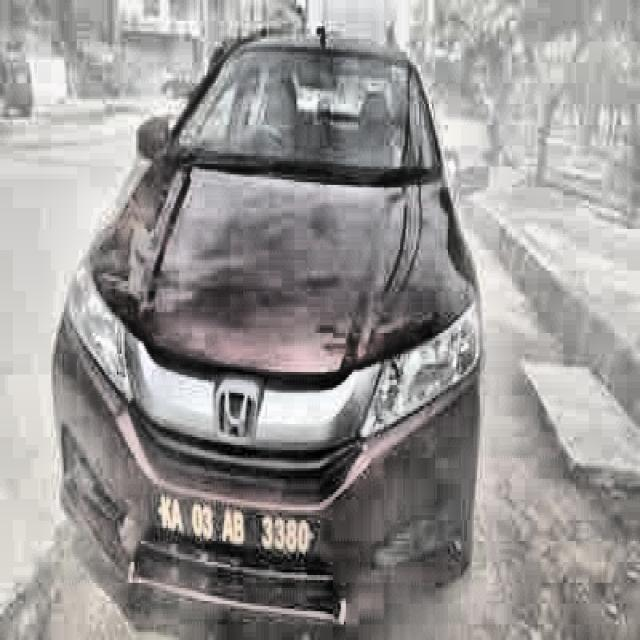license_plate: (156, 488, 310, 559)
